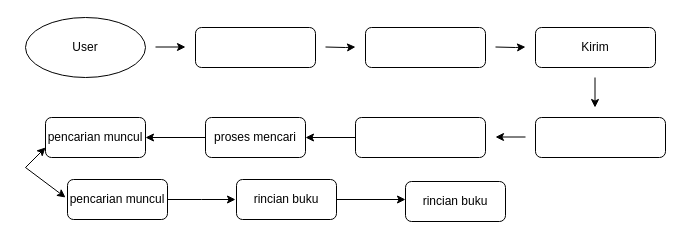
This 683x239 diagram has some shape labels left out. Each missing label, with the centre of its shape:
"Datang Ke Perpus" belongs at (x=255, y=47).
"Isi From Kunjungan" belongs at (x=425, y=47).
"masukan nama buku atau pengarang buku" belongs at (x=420, y=137).
"Mencari buku" belongs at (x=600, y=137).
